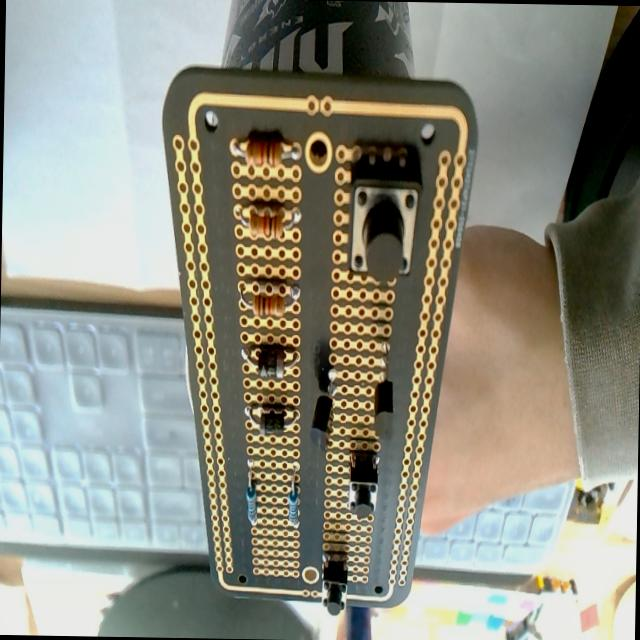diode: (242, 344, 298, 378), (246, 404, 298, 434)
resistor: (232, 134, 300, 168), (238, 204, 300, 236), (239, 279, 300, 311), (287, 466, 301, 530), (245, 460, 258, 526)
switch: (347, 168, 421, 280), (346, 451, 378, 520), (321, 552, 348, 616)
transistor: (309, 369, 338, 448), (372, 342, 395, 438)
